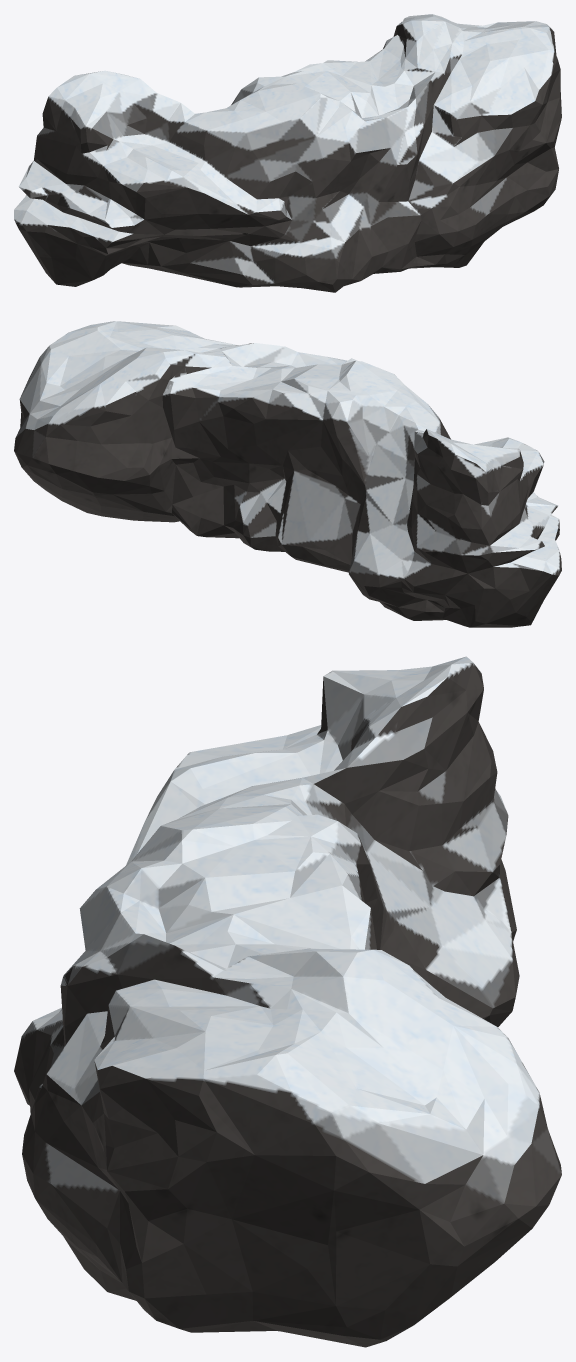
The model's file is cliff_07.gltf.
The picture shows the model from 3 angles, top to bottom: view 1: azimuth 30°, elevation 25°; view 2: azimuth 150°, elevation 25°; view 3: azimuth 270°, elevation 25°; orthographic projection. The views are drawn at different scales.
Parts seen in each view (by area): view 1: cliff_07; view 2: cliff_07; view 3: cliff_07.
Part boxes in pixels (x1=…): cliff_07: x1=14, y1=14, x2=561, y2=292; cliff_07: x1=14, y1=321, x2=561, y2=627; cliff_07: x1=14, y1=656, x2=561, y2=1347.
Bounding box in the file's own units: 28.78 × 10.22 × 13.86.
1 material, 1 textured.
